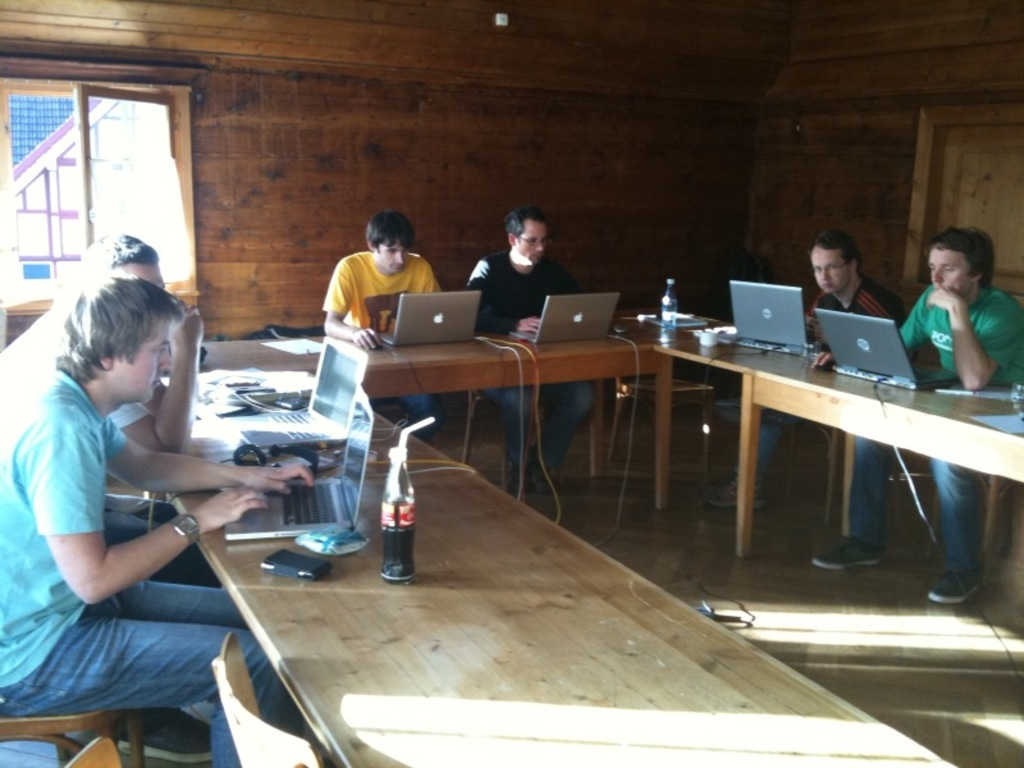Table: (174, 467, 968, 767), (316, 310, 696, 517), (666, 343, 1023, 553), (124, 335, 358, 493)
